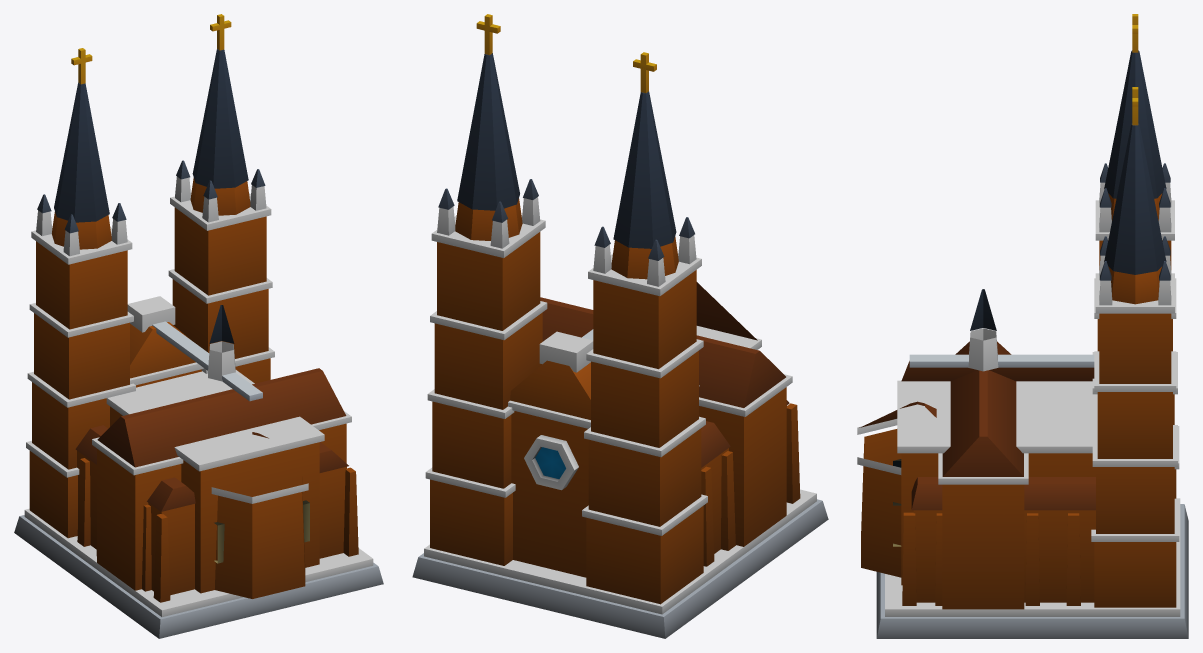
The model's file is landmark_cathedral.glb.
The picture shows the model from 3 angles, left to right: view 1: azimuth 30°, elevation 25°; view 2: azimuth 150°, elevation 25°; view 3: azimuth 270°, elevation 25°; orthographic projection. The views are drawn at different scales.
Visible parts, largest first — view 1: SaigonNotreDameCathedral; view 2: SaigonNotreDameCathedral; view 3: SaigonNotreDameCathedral.
Part boxes in pixels (<box>): SaigonNotreDameCathedral: <box>14,14,383,638</box>; SaigonNotreDameCathedral: <box>412,14,828,638</box>; SaigonNotreDameCathedral: <box>857,14,1188,638</box>.
Size of the model in its own units: 0.68 by 1.42 by 0.8072.
